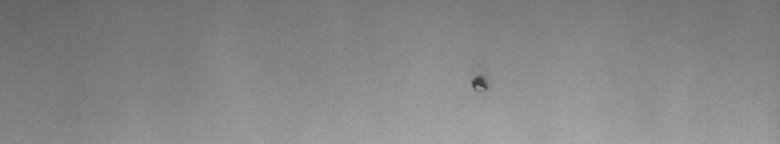fi: (467, 68, 491, 96)
